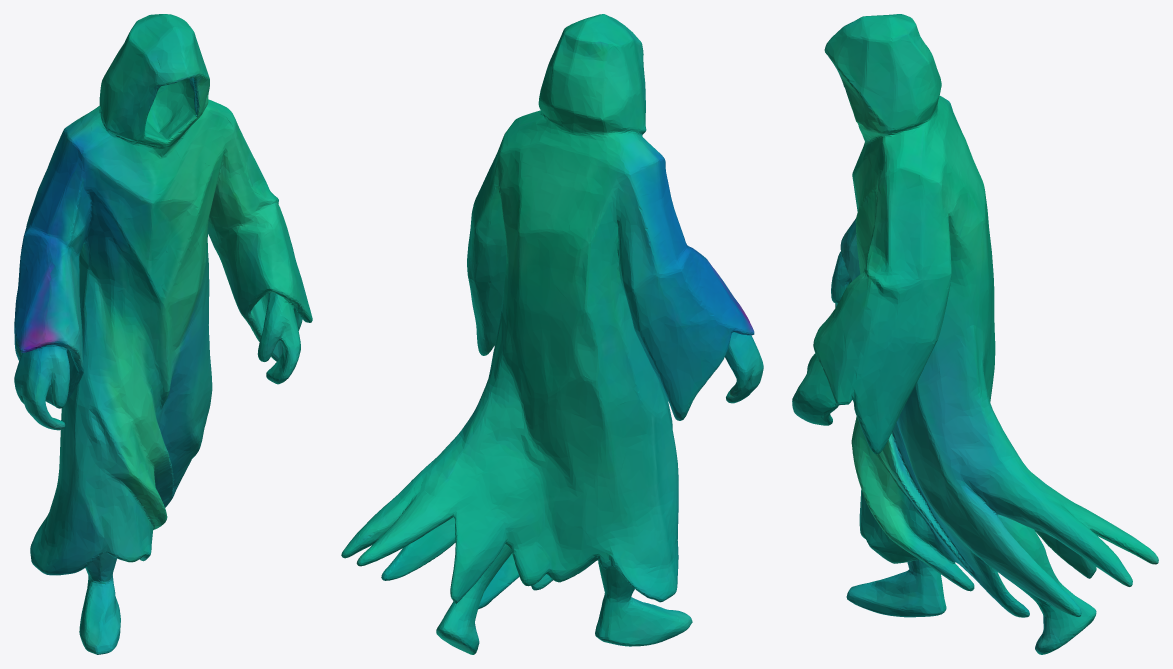
Rendered from VEILWALKER.glb.
3 views of the same model, side by side, from view 1: azimuth 30°, elevation 25°; view 2: azimuth 150°, elevation 25°; view 3: azimuth 270°, elevation 25° (orthographic). The views are drawn at different scales.
Parts seen in each view (by area): view 1: VEILWALKER; view 2: VEILWALKER; view 3: VEILWALKER.
Part boxes in pixels (box(x1,y1,x2,y2)): VEILWALKER: box(14, 14, 312, 654); VEILWALKER: box(341, 14, 763, 654); VEILWALKER: box(792, 14, 1158, 654).
Size of the model in its own units: 0.9895 by 1.99 by 1.05.
1 material, 1 textured.
